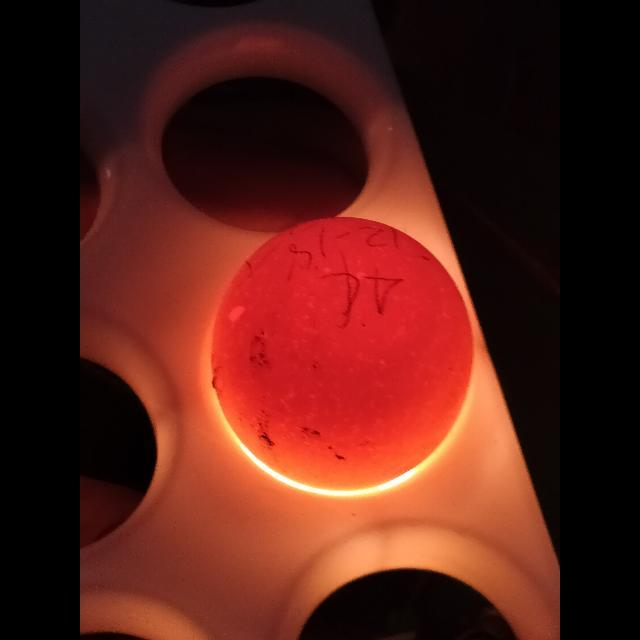Infertile: (218, 212, 470, 480)
